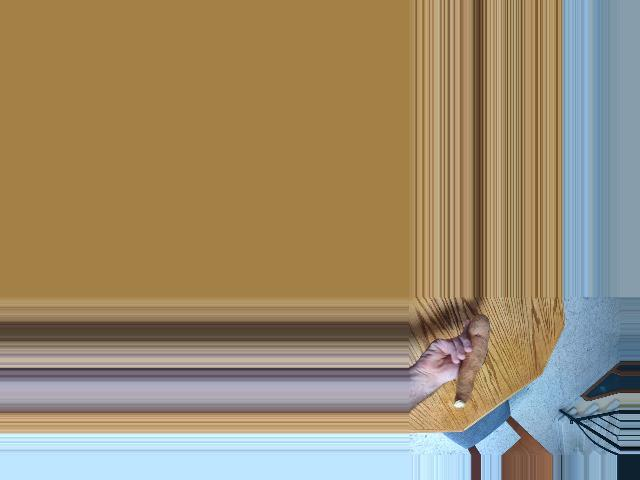sweet_potato: (451, 318, 495, 410)
